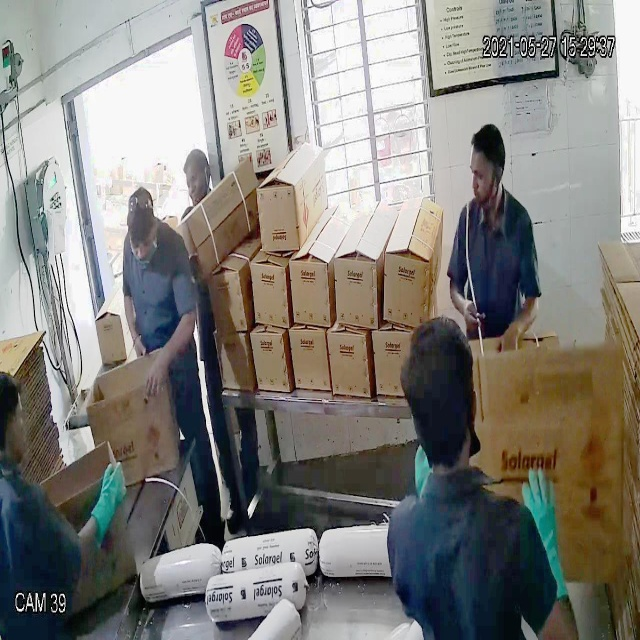Sin_gafas: (464, 159, 502, 193)
